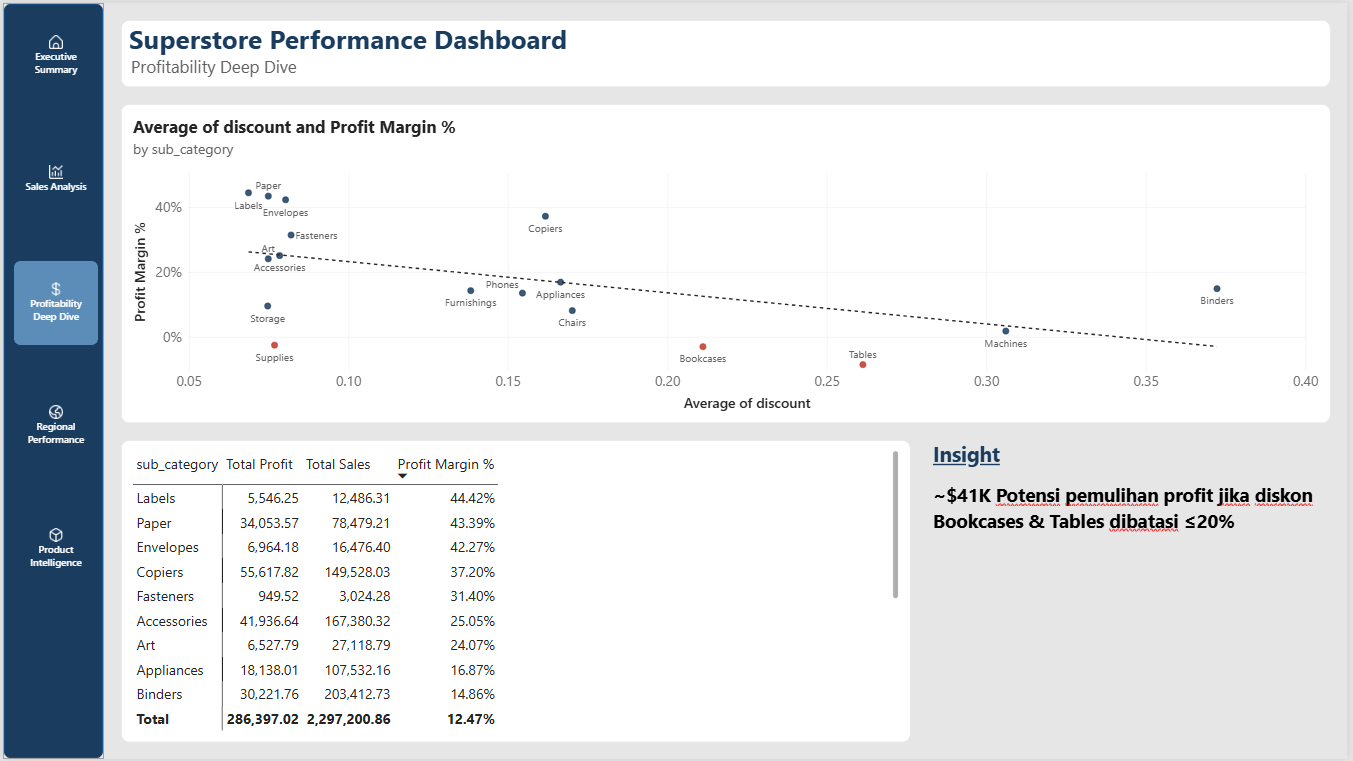

The dashboard page shown, as its layout file describes it:
{"tool":"powerbi","page":{"name":"Profitability Deep Dive","canvas":[1920,1080],"ordinal":2},"visuals":[{"type":"scatterChart","fields":{"Category":["fact_orders.sub_category"],"X":["Avg(fact_orders.discount)"],"Y":["fact_orders.Profit Margin %"]},"box":[168,144,1728,456],"z":0},{"type":"pivotTable","fields":{"Rows":["fact_orders.sub_category"],"Values":["fact_orders.Total Profit","fact_orders.Total Sales","fact_orders.Profit Margin %"]},"box":[168,624,1128,432],"z":1000},{"type":"textbox","box":[168,24,1728,96],"z":3000},{"type":"shape","box":[0,0,144,1080],"z":4000},{"type":"actionButton","box":[16,16,120,120],"z":5000},{"type":"actionButton","box":[16,192,120,120],"z":6000},{"type":"actionButton","box":[16,368,120,120],"z":7000},{"type":"actionButton","box":[16,544,120,120],"z":8000},{"type":"actionButton","box":[16,720,120,120],"z":9000},{"type":"textbox","title":"     Insight","box":[1328,624,576,160],"z":9001}]}

Visuals, with their boxes on the page's 1920x1080 design canvas (x1, y1, x2, y2). These are canvas units, not pixel positions in the 1353x761 screenshot, which may show the page scaled, cropped or inside an application window:
scatterChart - fact_orders.sub_category x Avg(fact_orders.discount): BBox(168, 144, 1896, 600)
pivotTable - fact_orders.sub_category x fact_orders.Total Profit: BBox(168, 624, 1296, 1056)
textbox: BBox(168, 24, 1896, 120)
shape: BBox(0, 0, 144, 1080)
actionButton: BBox(16, 16, 136, 136)
actionButton: BBox(16, 192, 136, 312)
actionButton: BBox(16, 368, 136, 488)
actionButton: BBox(16, 544, 136, 664)
actionButton: BBox(16, 720, 136, 840)
"     Insight" textbox: BBox(1328, 624, 1904, 784)
